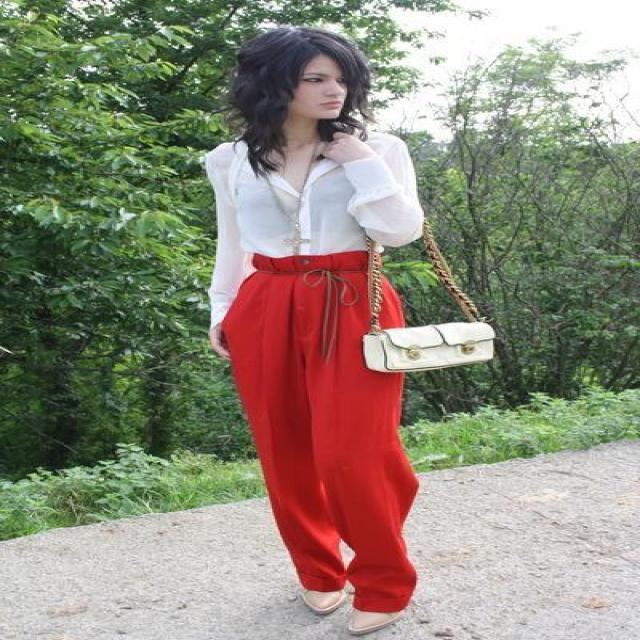bag: (363, 322, 499, 377)
pants: (219, 249, 419, 612)
shirt: (194, 122, 427, 328)
shoe: (312, 580, 398, 639)
